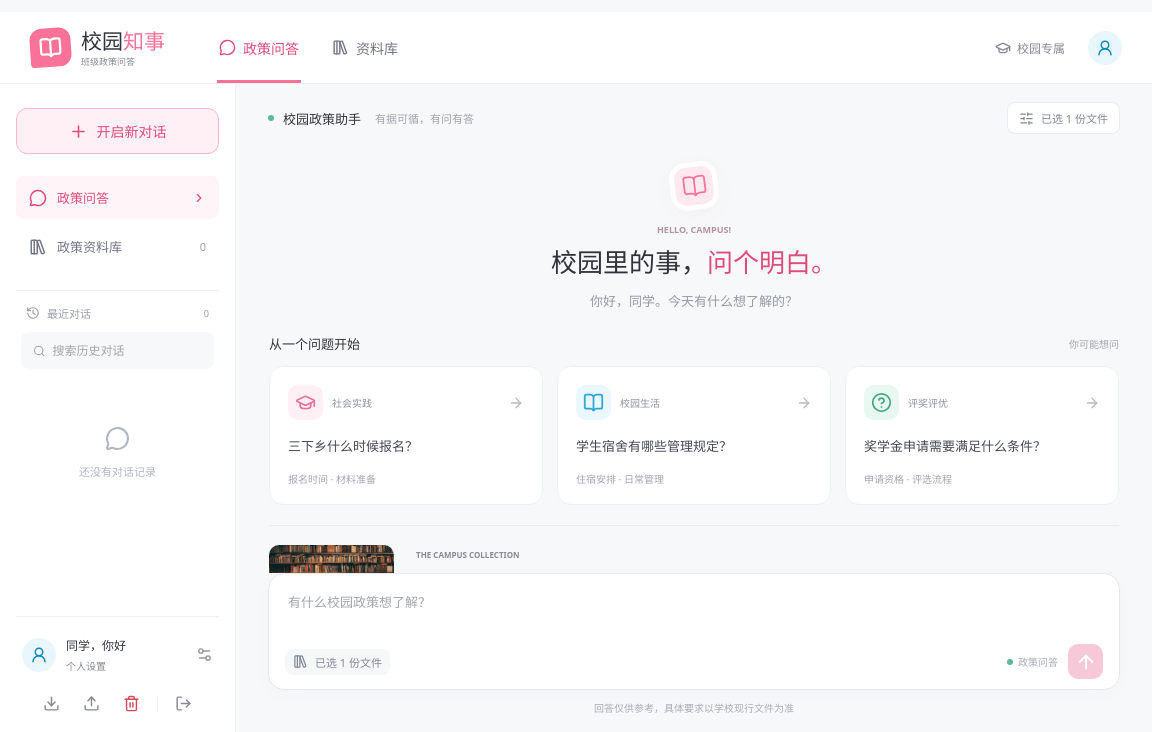
Scenario: confirmed file expansion uses explicit flag without changing preferences
Type "问题" into the text box named "问题" at (694, 616), box x1=285 y1=588 x2=1103 y2=644
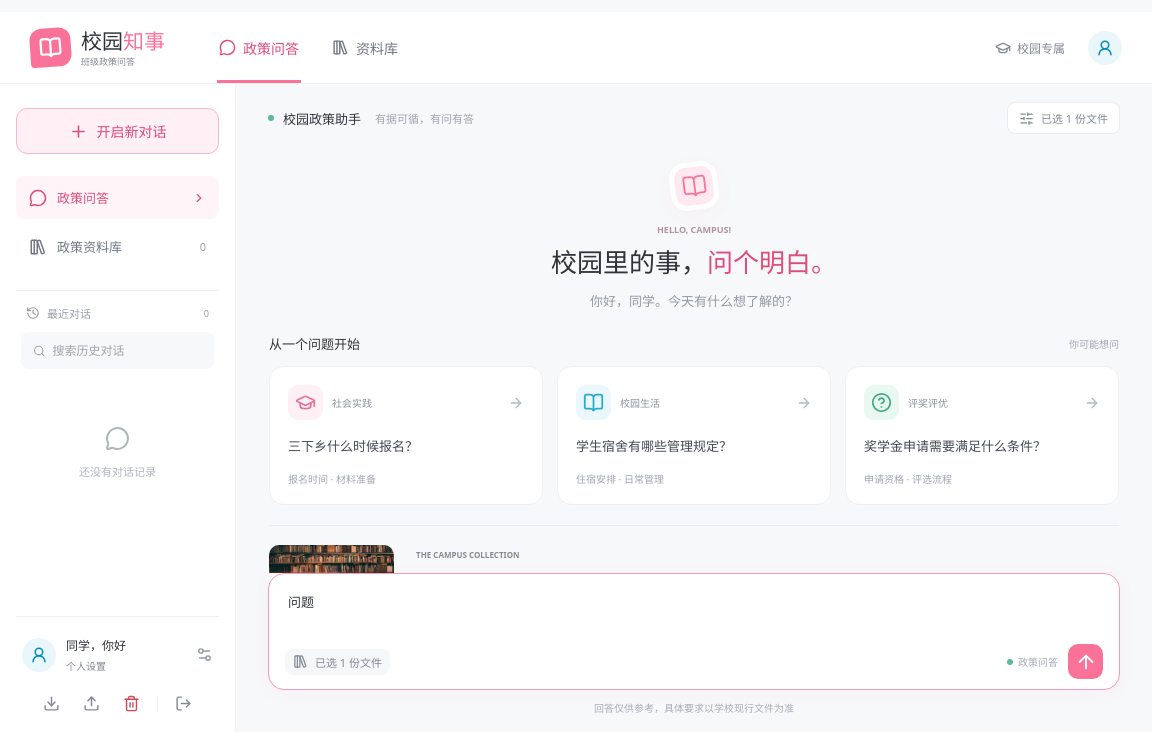
Click the button named "发送" at (1086, 662), box x1=1068 y1=644 x2=1103 y2=679
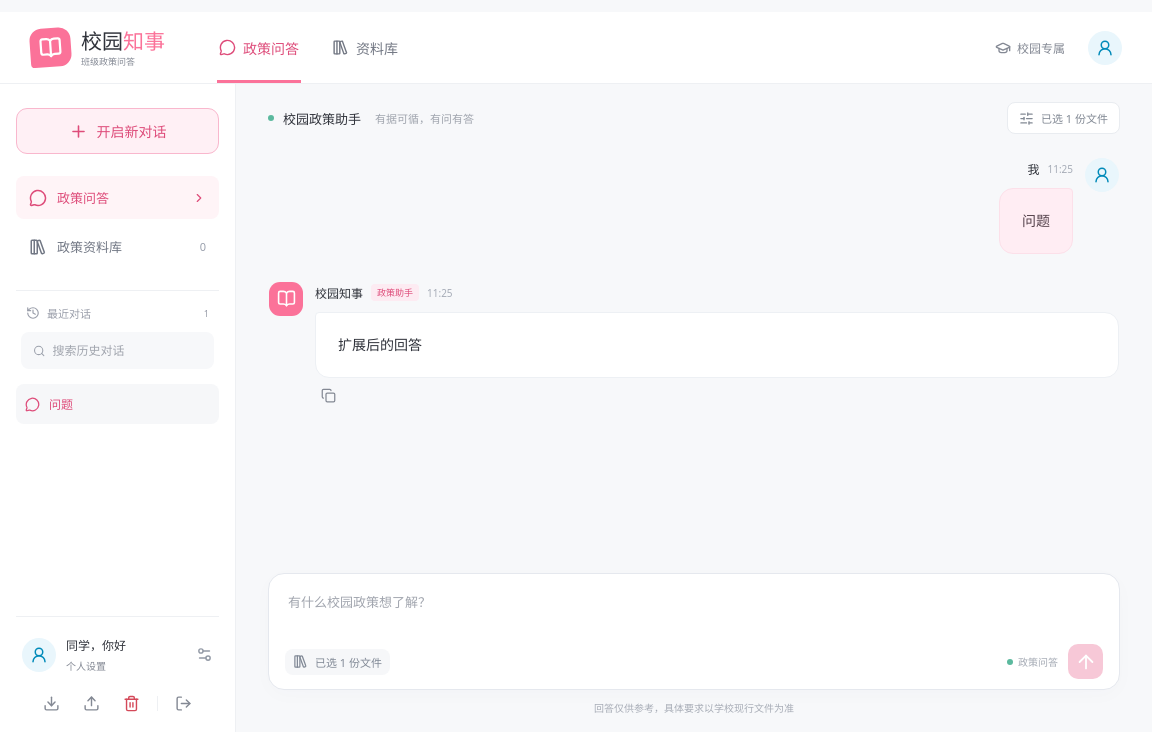
Expected: the text "扩展后的回答" is shown, x1=338 y1=335 x2=422 y2=354
